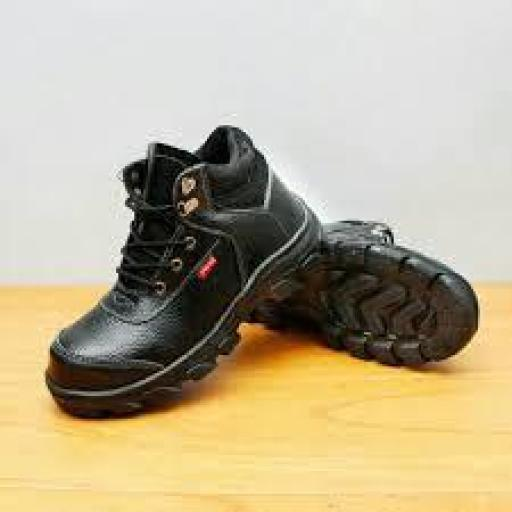safety_boots: (37, 236, 250, 422), (325, 200, 484, 398)
